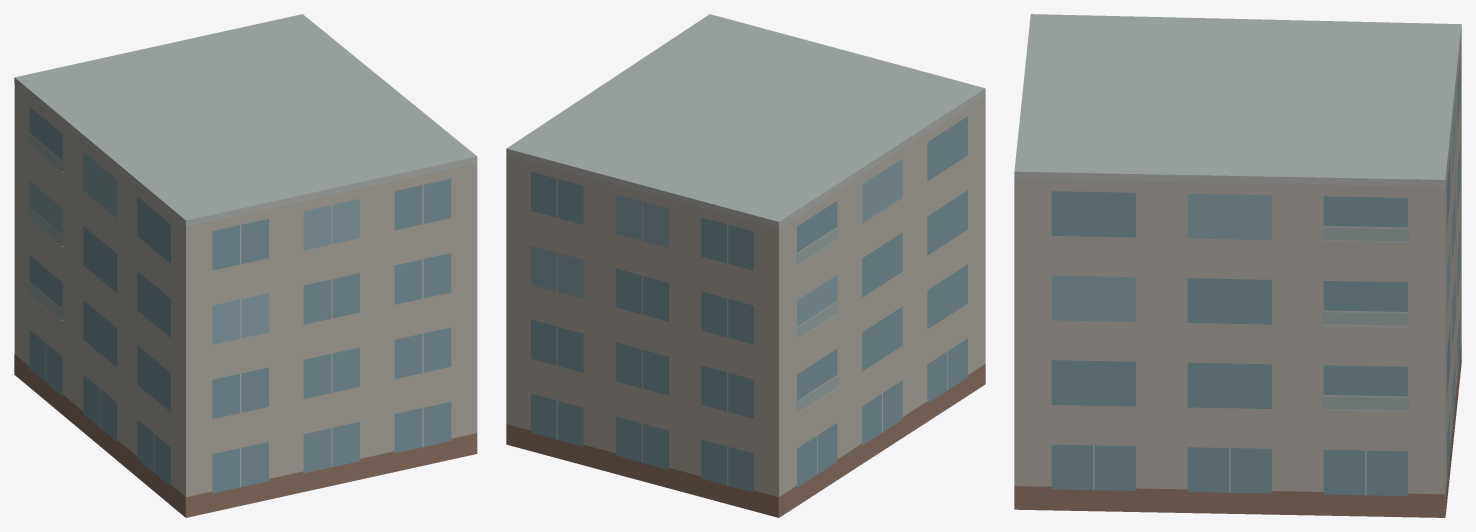
Rendered from survey-upis-33047172.glb.
The picture shows the model from 3 angles, left to right: view 1: azimuth 30°, elevation 25°; view 2: azimuth 150°, elevation 25°; view 3: azimuth 270°, elevation 25°; orthographic projection. The views are drawn at different scales.
Visible parts, largest first — view 1: survey-upis-33047172.tmp; view 2: survey-upis-33047172.tmp; view 3: survey-upis-33047172.tmp.
Part boxes in pixels (<box>): survey-upis-33047172.tmp: <box>14,14,477,517</box>; survey-upis-33047172.tmp: <box>506,14,985,517</box>; survey-upis-33047172.tmp: <box>1014,14,1461,517</box>.
Size of the model in its own units: 11.91 by 11.3 by 13.56.
